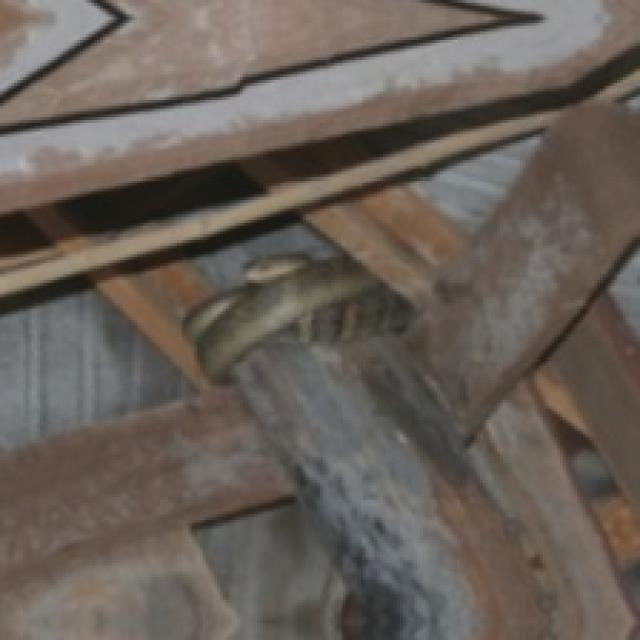king cobra: (243, 346, 471, 629), (186, 257, 371, 377), (340, 286, 406, 323)
